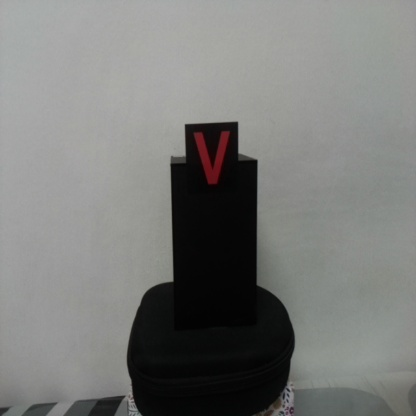id_11: (185, 124, 239, 193)
